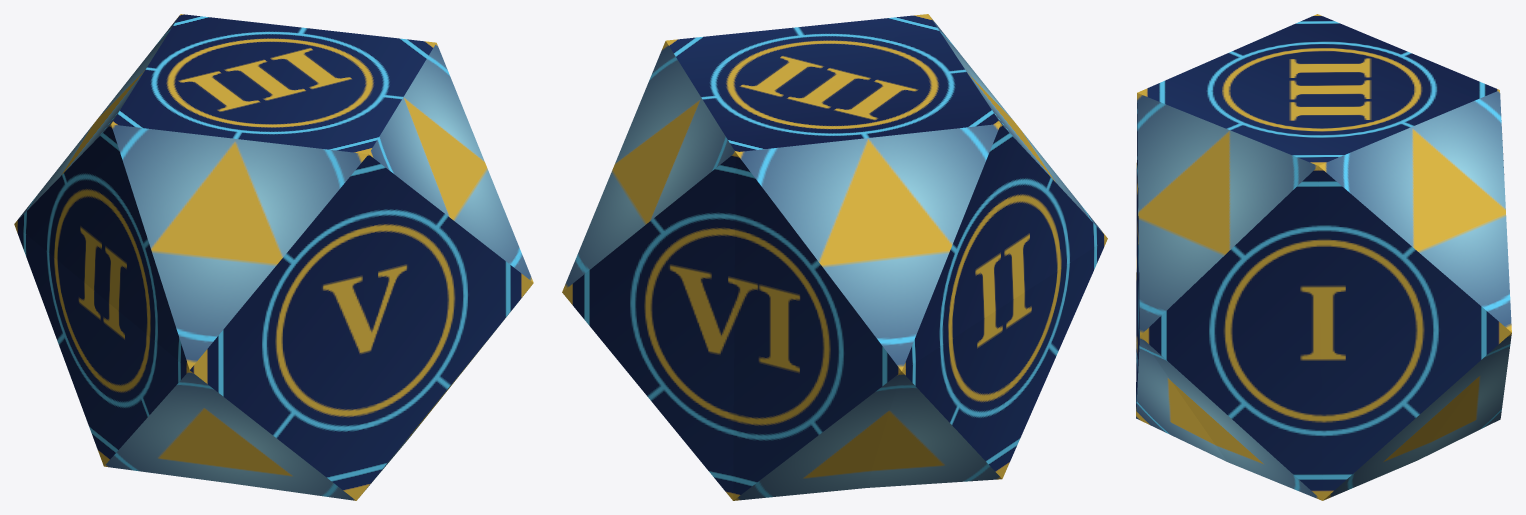
The model's file is holocron_tex.obj.
3 views of the same model, side by side, from view 1: azimuth 30°, elevation 25°; view 2: azimuth 150°, elevation 25°; view 3: azimuth 270°, elevation 25° (orthographic). The views are drawn at different scales.
Visible parts, largest first — view 1: holocron; view 2: holocron; view 3: holocron.
Boxes of the visible parts, x1=… form: holocron: x1=14, y1=14, x2=533, y2=500; holocron: x1=562, y1=14, x2=1107, y2=500; holocron: x1=1136, y1=14, x2=1511, y2=500.
Bounding box in the file's own units: 5.28 × 5.05 × 5.14.
